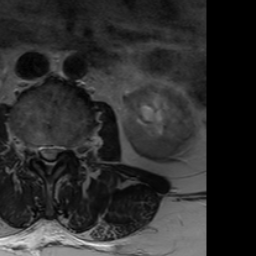CCS_normal: (45, 137, 54, 179)
LFS_severe_stenosis: (64, 140, 73, 159)
LLS_stenosis: (54, 140, 63, 164)
RFS_normal: (28, 138, 37, 164)
RLS_normal: (37, 138, 45, 166)
